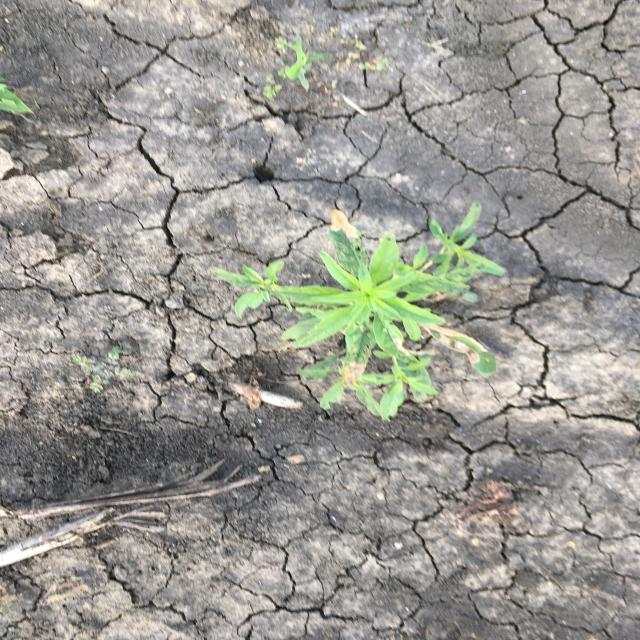Waterhemp: (206, 201, 508, 420)
